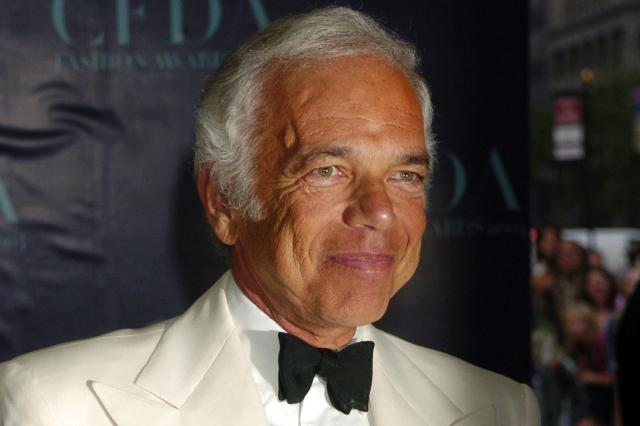crows_feet: (278, 170, 300, 202)
forehead: (326, 107, 366, 125), (378, 115, 406, 135)
gummy_smile: (398, 227, 414, 261), (303, 234, 319, 262)
masseter: (287, 230, 307, 276)
